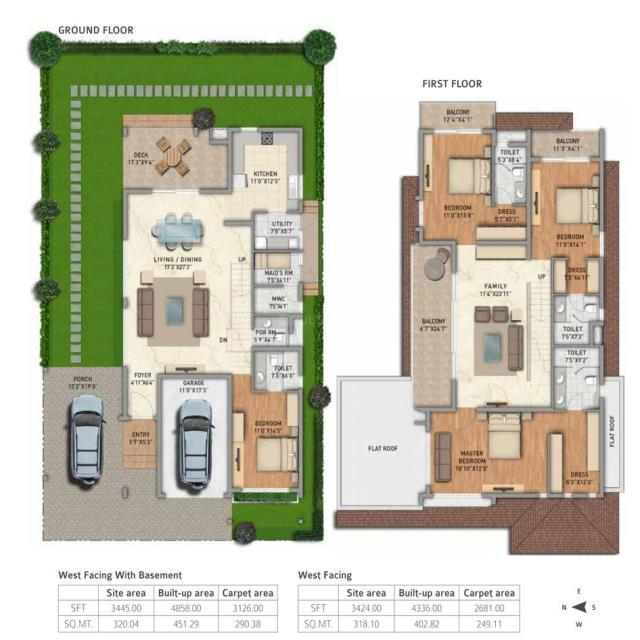Balcony-Sitout: (412, 245, 454, 408), (420, 101, 495, 130), (530, 130, 600, 157)
Bedroom: (230, 376, 301, 491)
Bedroom with Toilet: (428, 345, 601, 496), (529, 158, 602, 345), (420, 131, 528, 243)
Dining: (149, 210, 213, 258)
Enterance-Foyer: (125, 367, 157, 419)
Kitchen: (230, 129, 300, 212)
Living: (455, 246, 526, 408), (125, 264, 228, 366)
Toilet: (552, 347, 600, 408), (553, 296, 599, 343), (253, 350, 300, 391), (494, 147, 527, 204)
Utility: (254, 213, 301, 251)
